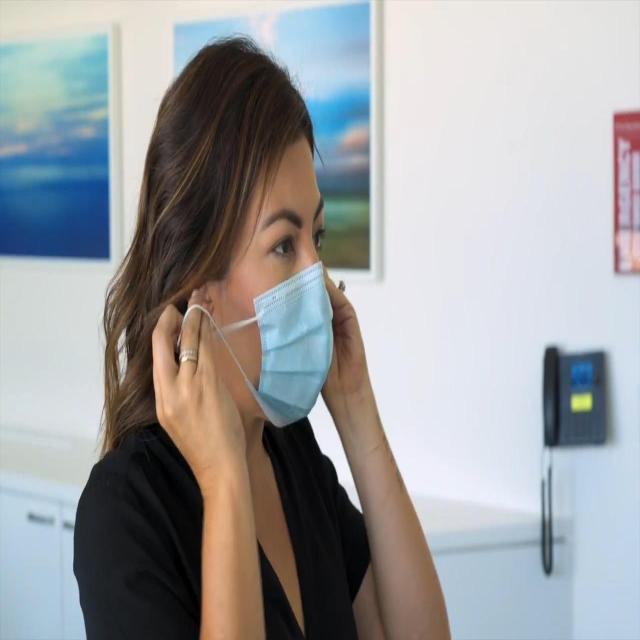Mask: (208, 134, 335, 426)
